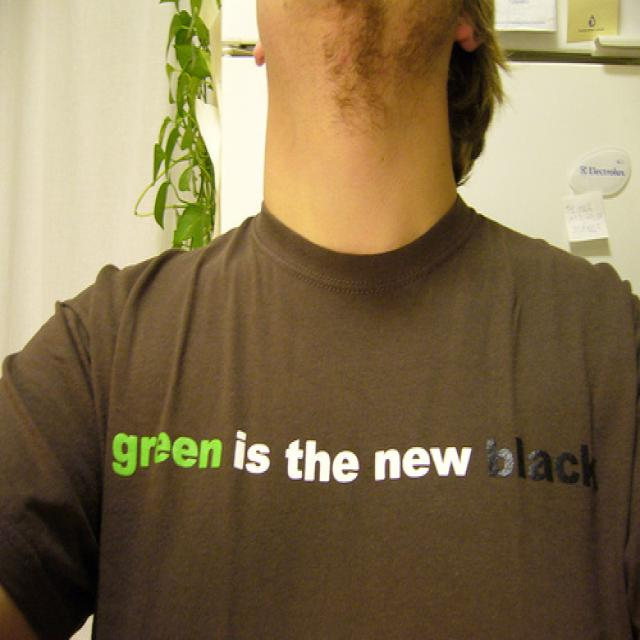T-shirt: (6, 186, 640, 640)
